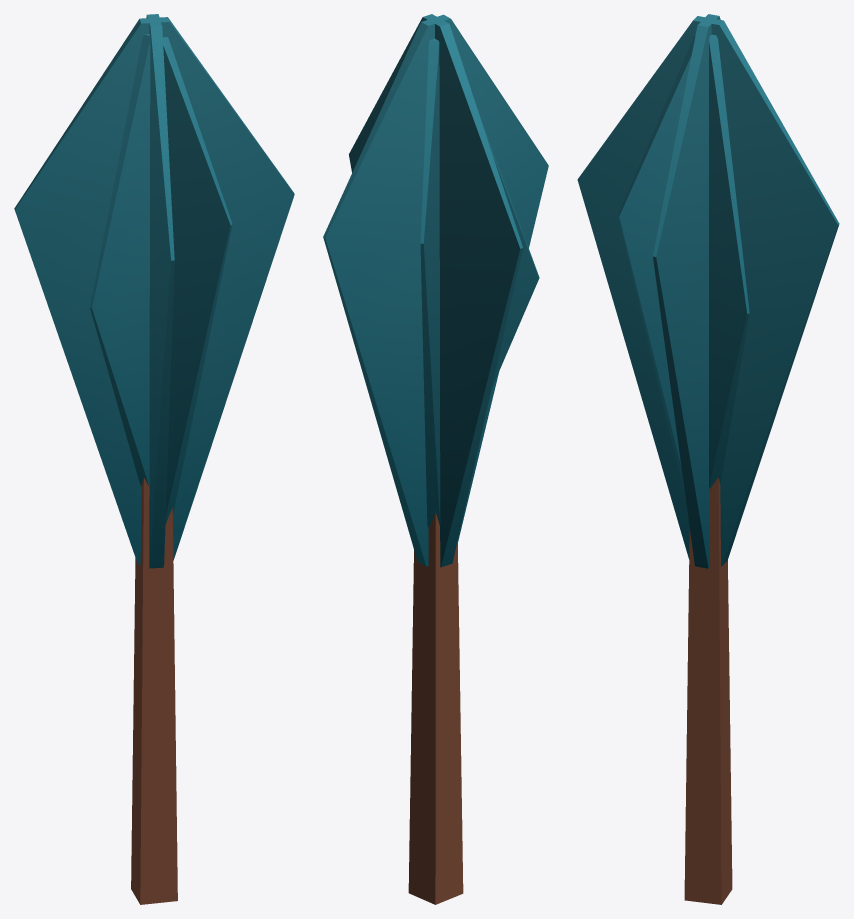
File: Tree_33_gradient_blue_vc.fbx
3 renders of one model, left to right at view 1: azimuth 30°, elevation 25°; view 2: azimuth 150°, elevation 25°; view 3: azimuth 270°, elevation 25°, orthographic.
Visible parts, largest first — view 1: Tree_33_gradient_blue_vc; view 2: Tree_33_gradient_blue_vc; view 3: Tree_33_gradient_blue_vc.
Part boxes in pixels (box(x1,y1,x2,y2)): Tree_33_gradient_blue_vc: box(14, 14, 294, 904); Tree_33_gradient_blue_vc: box(323, 14, 548, 904); Tree_33_gradient_blue_vc: box(577, 14, 839, 904).
Bounding box in the file's own units: 84.61 × 311 × 84.61.
